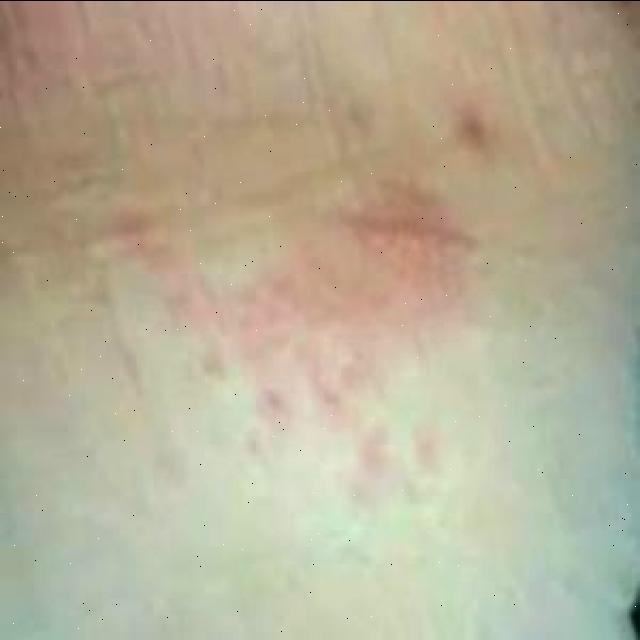Shingles: (107, 175, 468, 503)
